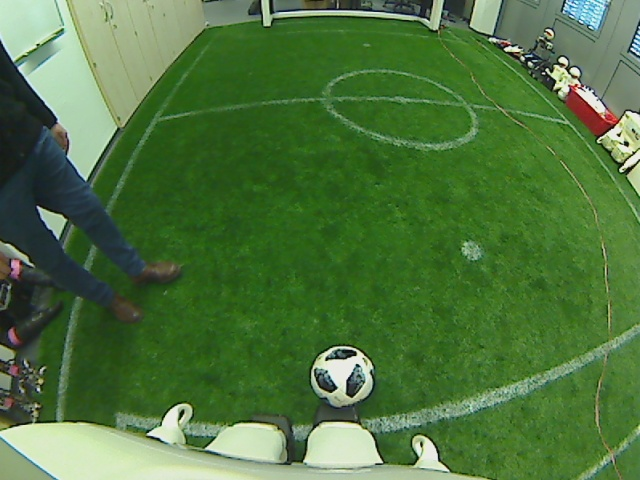ball: (308, 343, 375, 408)
